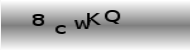8: (31, 14, 45, 26)
K: (86, 11, 101, 25)
Q: (104, 9, 121, 24)
c: (53, 24, 67, 35)
w: (74, 19, 91, 29)
